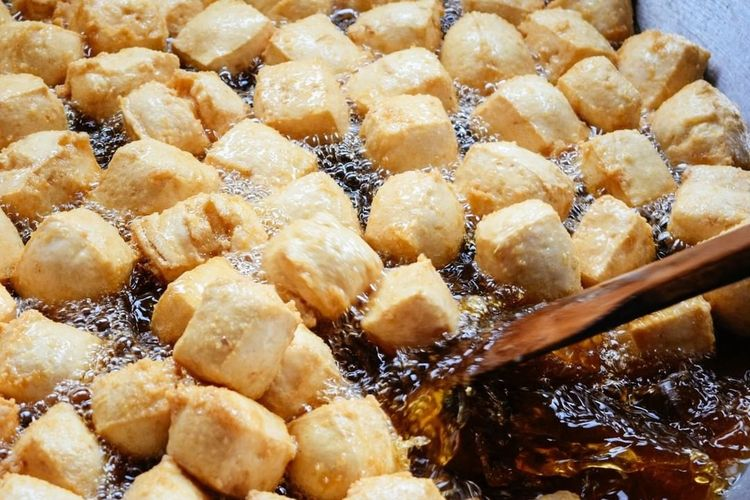Tahu: (234, 182, 378, 326), (124, 312, 309, 395), (463, 258, 607, 358), (133, 201, 250, 320), (395, 96, 521, 205), (366, 181, 478, 303), (322, 278, 453, 376), (152, 135, 268, 210), (471, 187, 567, 248), (312, 136, 374, 200)
